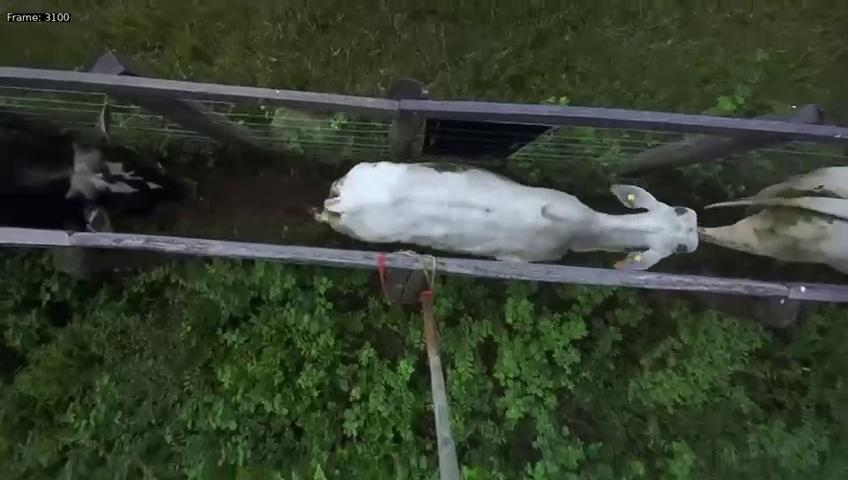cattle: (303, 151, 706, 281)
